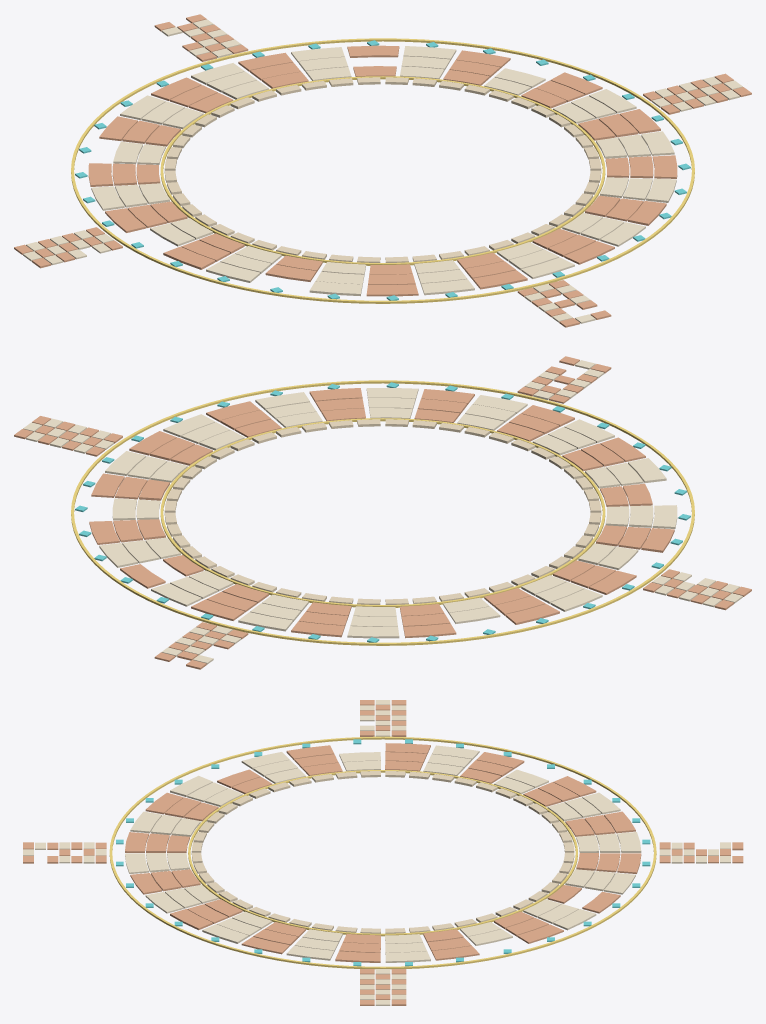
The model's file is SandMosaic.glb.
3 views of the same model, one above another, from view 1: azimuth 30°, elevation 25°; view 2: azimuth 150°, elevation 25°; view 3: azimuth 270°, elevation 25° (orthographic). The views are drawn at different scales.
Parts seen in each view (by area): view 1: TileDark, Tile, Inlay, Curb, Accent; view 2: TileDark, Tile, Inlay, Curb, Accent; view 3: TileDark, Tile, Inlay, Curb, Accent.
Boxes of the visible parts, bbox=[...] form: TileDark: bbox=[14, 14, 751, 327]; Tile: bbox=[23, 19, 742, 323]; Inlay: bbox=[71, 38, 694, 303]; Curb: bbox=[164, 77, 601, 262]; Accent: bbox=[75, 40, 690, 300]; TileDark: bbox=[14, 356, 751, 669]; Tile: bbox=[23, 360, 742, 664]; Inlay: bbox=[71, 380, 694, 645]; Curb: bbox=[164, 419, 601, 604]; Accent: bbox=[75, 382, 690, 642]; TileDark: bbox=[23, 700, 743, 1005]; Tile: bbox=[23, 700, 730, 1005]; Inlay: bbox=[109, 736, 656, 969]; Curb: bbox=[191, 771, 574, 933]; Accent: bbox=[116, 739, 650, 966].
Size of the model in its own units: 140 by 0.45 by 140.
